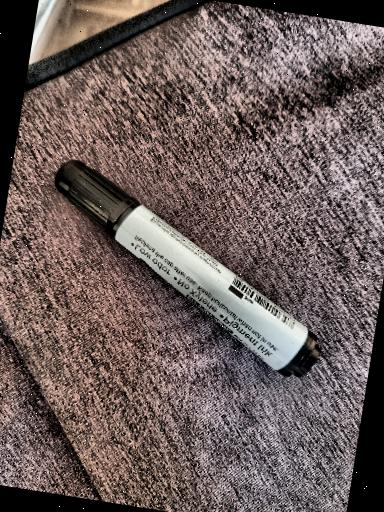marcador negro: (54, 160, 320, 377)
